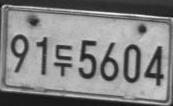0: (122, 43, 142, 84)
1: (33, 36, 53, 75)
4: (144, 45, 165, 87)
5: (77, 39, 97, 79)
6: (99, 41, 119, 81)
9: (9, 33, 29, 72)
두: (53, 44, 73, 77)
